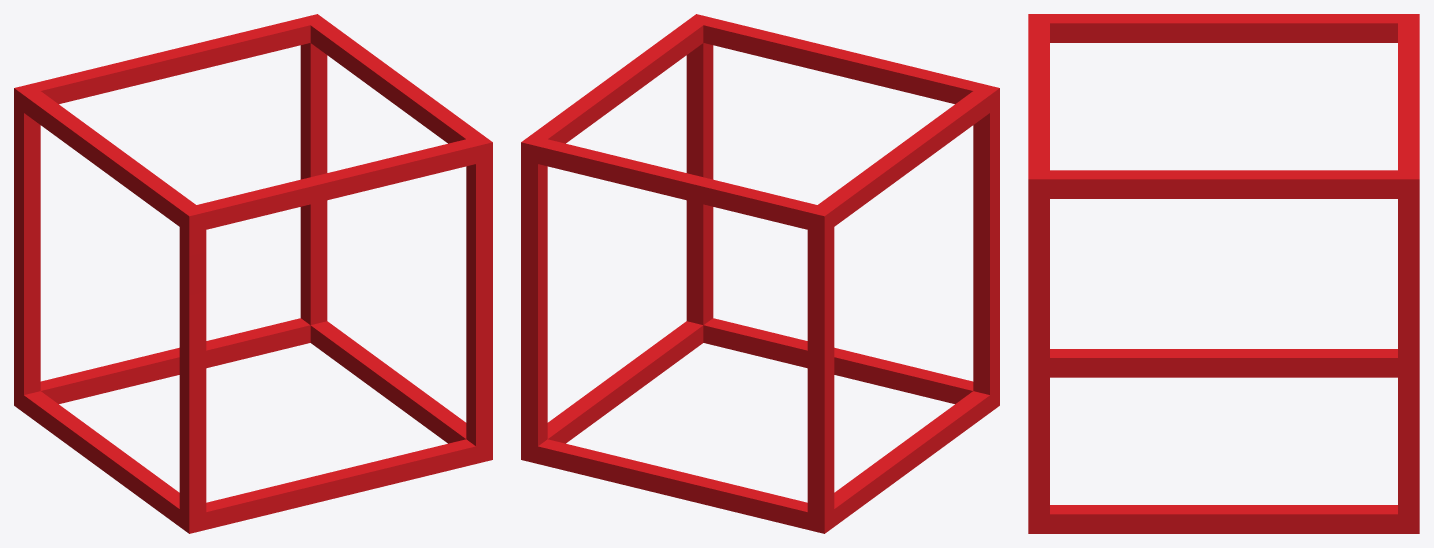
Rendered from item_input.obj.
3 renders of one model, left to right at view 1: azimuth 30°, elevation 25°; view 2: azimuth 150°, elevation 25°; view 3: azimuth 270°, elevation 25°, orthographic. The views are drawn at different scales.
Visible parts, largest first — view 1: Cube; view 2: Cube; view 3: Cube.
Part boxes in pixels (box(x1,y1,x2,y2)): Cube: box(14, 14, 492, 533); Cube: box(521, 14, 999, 533); Cube: box(1028, 14, 1419, 533).
Size of the model in its own units: 1.69 by 1.69 by 1.69.
1 material, 1 textured.
